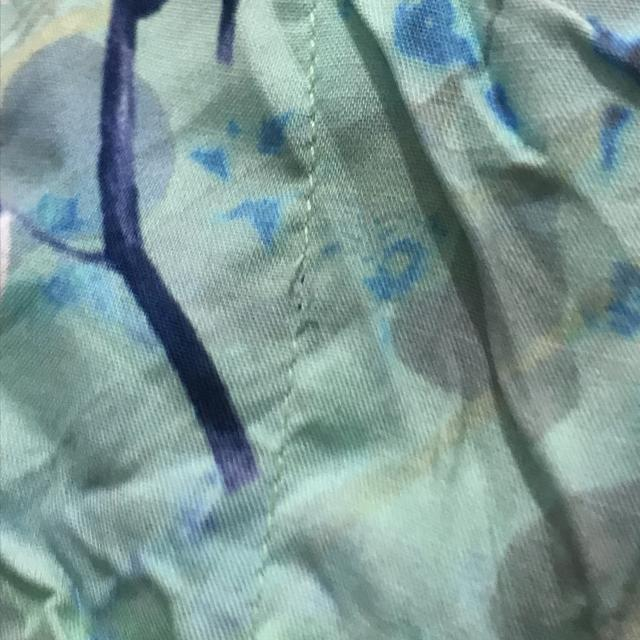broken: (279, 222, 324, 366)
